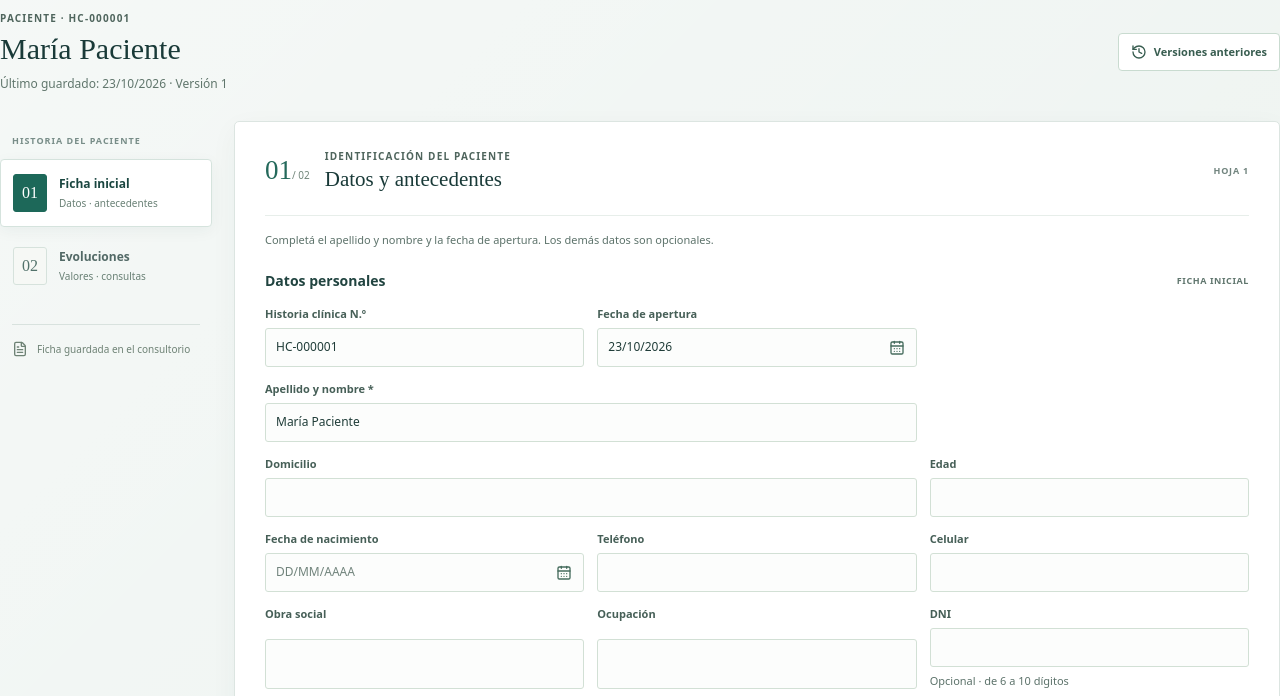
Test: saved initial sheets and evolutions › opens a saved initial sheet and keeps edits while switching sheets
The width and height of the screenshot is (1280, 696).
Expected: the field labelled "Apellido y nombre *" holds "María Paciente", [265, 403, 917, 442]
Step 1. Type "Dirección de prueba" into the field labelled "Domicilio" → (591, 498), box [265, 478, 917, 517]
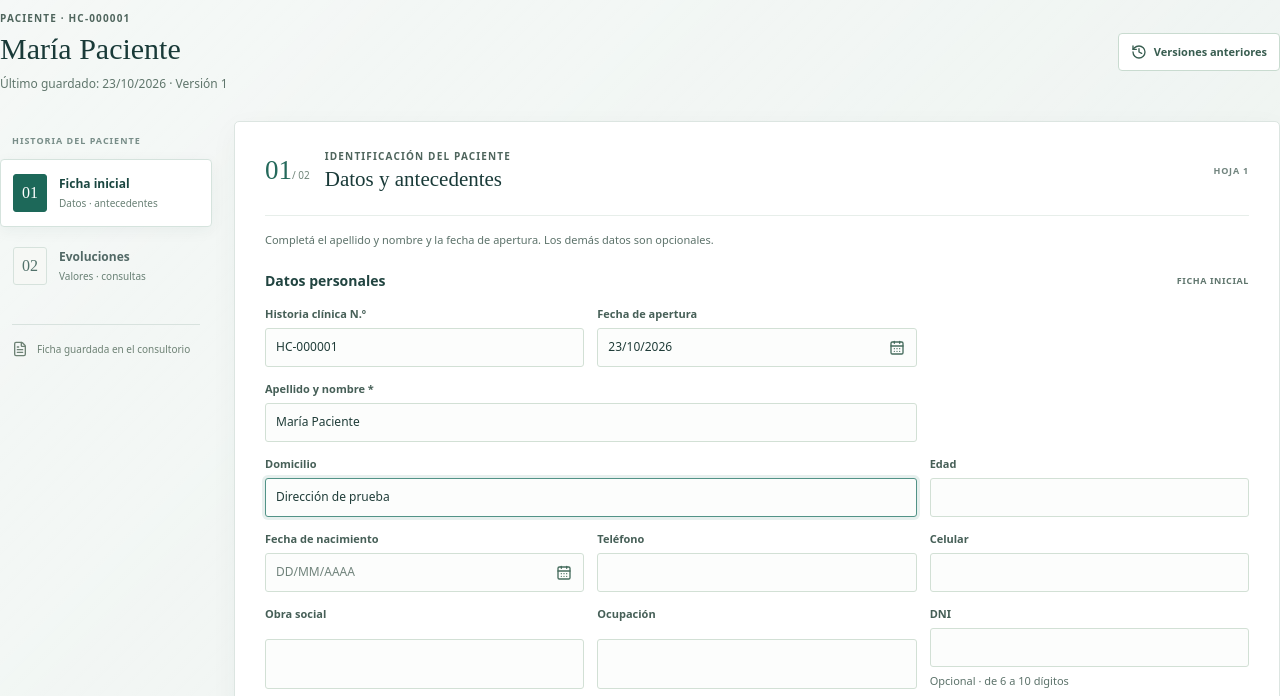
Step 2. Click the button with aria-label "Evoluciones: valores y consultas" → (106, 266), box [0, 232, 212, 300]
(page scrolled)
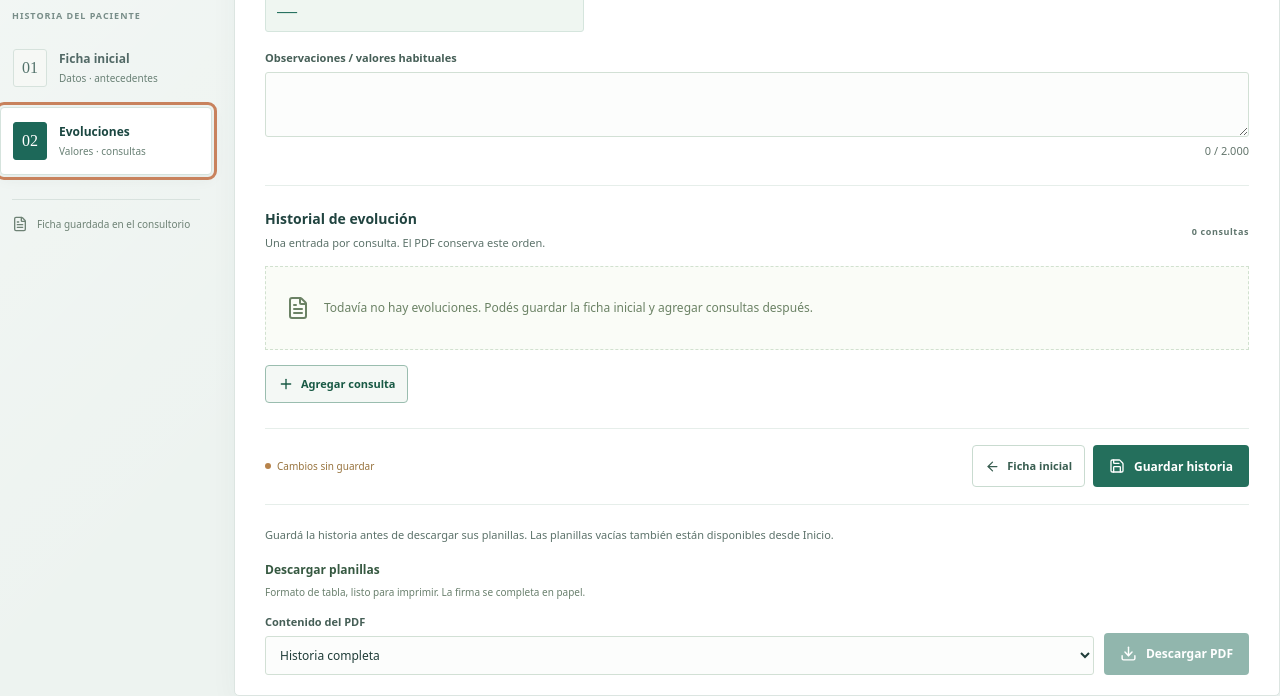
Step 3. Click the button "Agregar consulta" → (337, 384), box [265, 365, 408, 403]
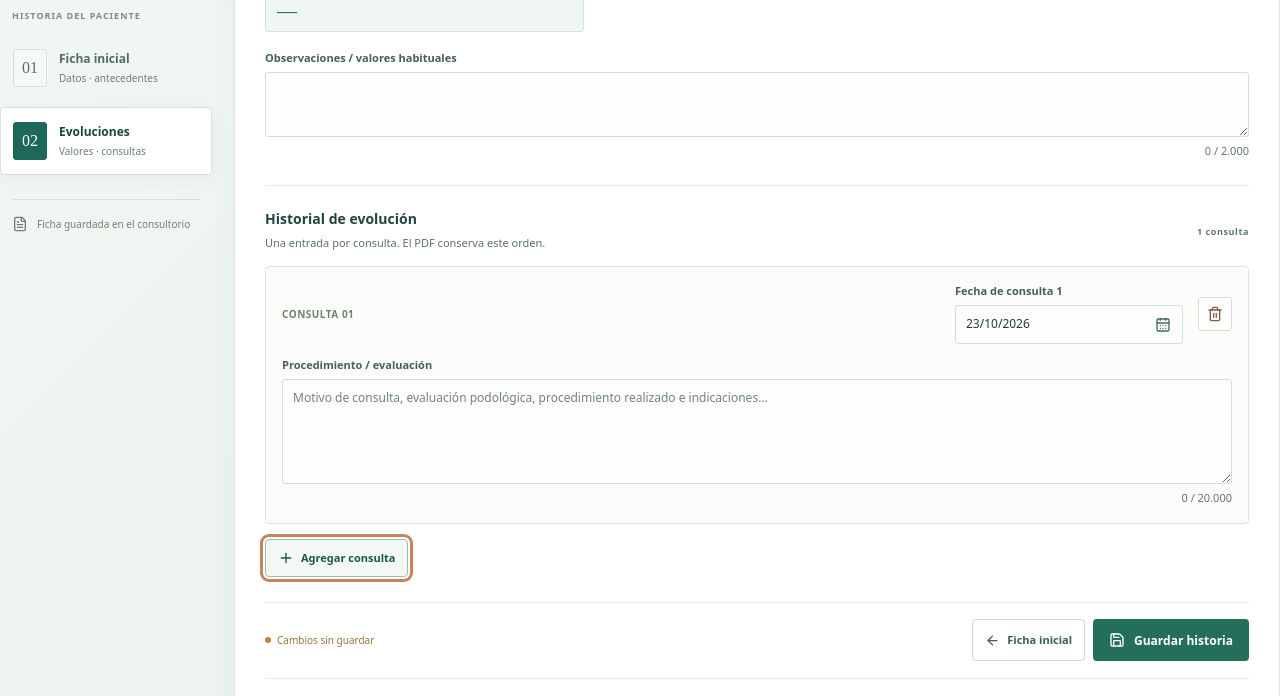
Step 4. Type "Control podológico" into the text box labelled "Procedimiento / evaluación" → (757, 432), box [282, 379, 1232, 484]
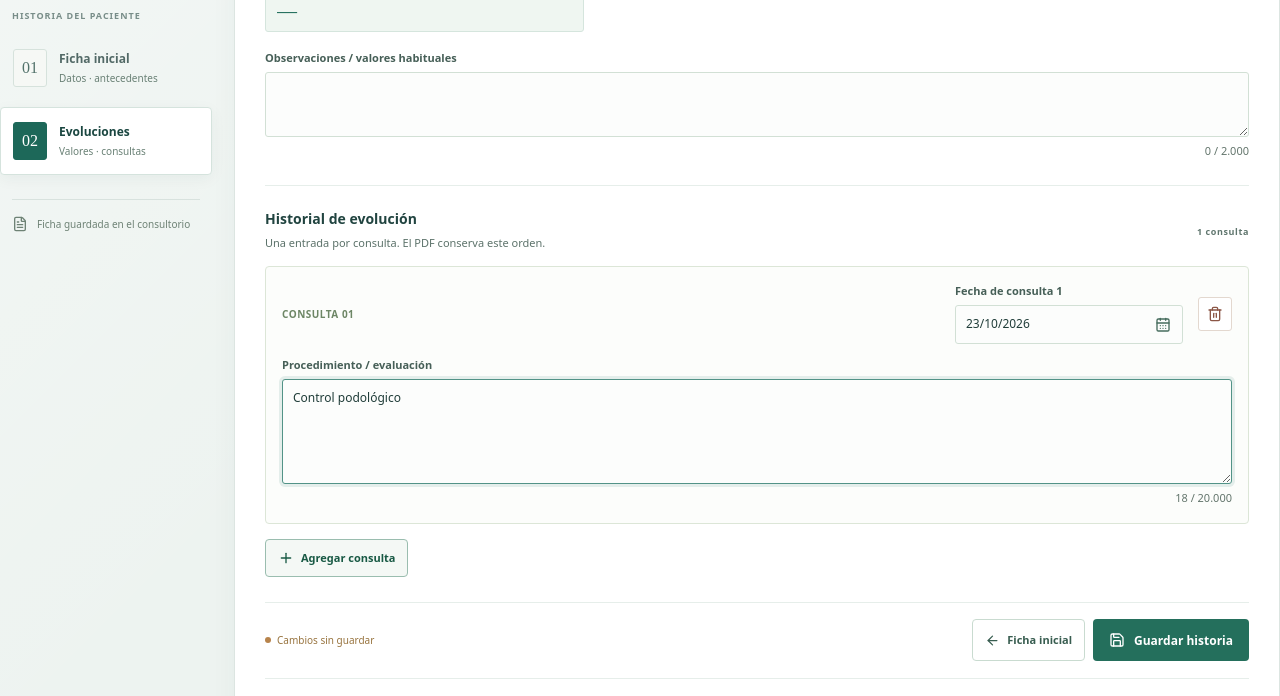
Step 5. Click the button with aria-label "Ficha inicial: datos y antecedentes" → (106, 68), box [0, 34, 212, 102]
(page scrolled)
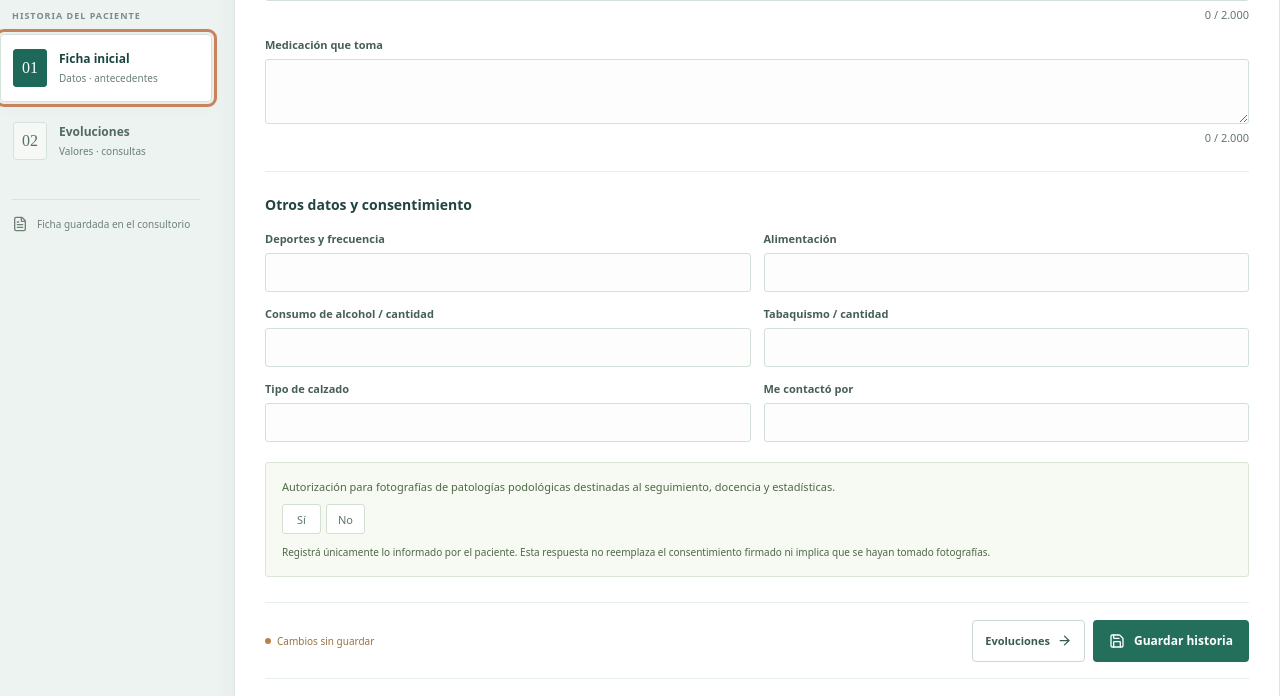
Step 6. Click the button "Guardar historia" → (1171, 641), box [1093, 620, 1249, 662]
(page scrolled)
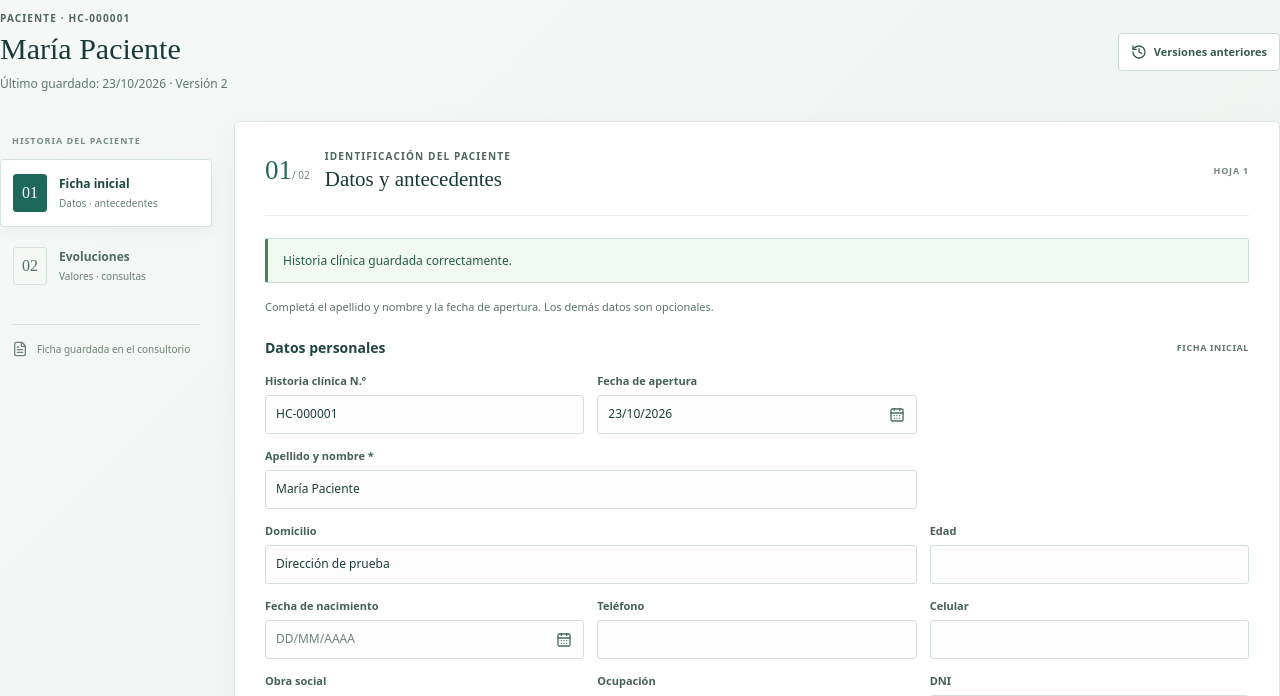
Result: the text "Historia clínica guardada correctamente." is shown at [265, 238, 1249, 283]
